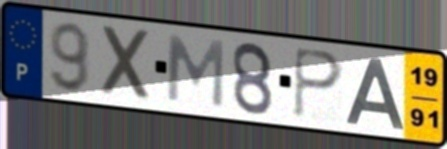8: (231, 40, 275, 116)
9: (47, 19, 94, 95)
A: (343, 55, 407, 132)
M: (163, 32, 227, 111)
P: (291, 45, 346, 121)
X: (99, 22, 155, 104)
